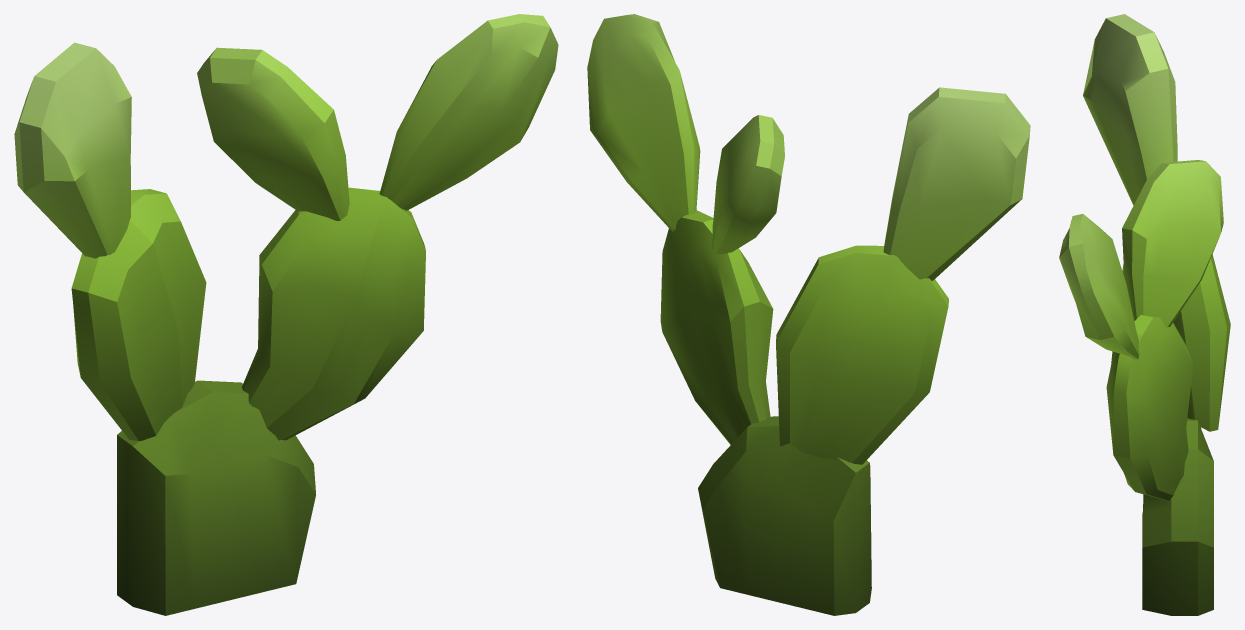
Rendered from Cactus_C_1.fbx.
3 views of the same model, side by side, from view 1: azimuth 30°, elevation 25°; view 2: azimuth 150°, elevation 25°; view 3: azimuth 270°, elevation 25° (orthographic). The views are drawn at different scales.
Parts seen in each view (by area): view 1: Cactus_C_1; view 2: Cactus_C_1; view 3: Cactus_C_1.
Boxes of the visible parts, x1,y1,x2,y2 form: Cactus_C_1: (14,14,558,615); Cactus_C_1: (587,14,1030,615); Cactus_C_1: (1059,14,1230,615).
Bounding box in the file's own units: 44.71 × 48.51 × 15.4.
